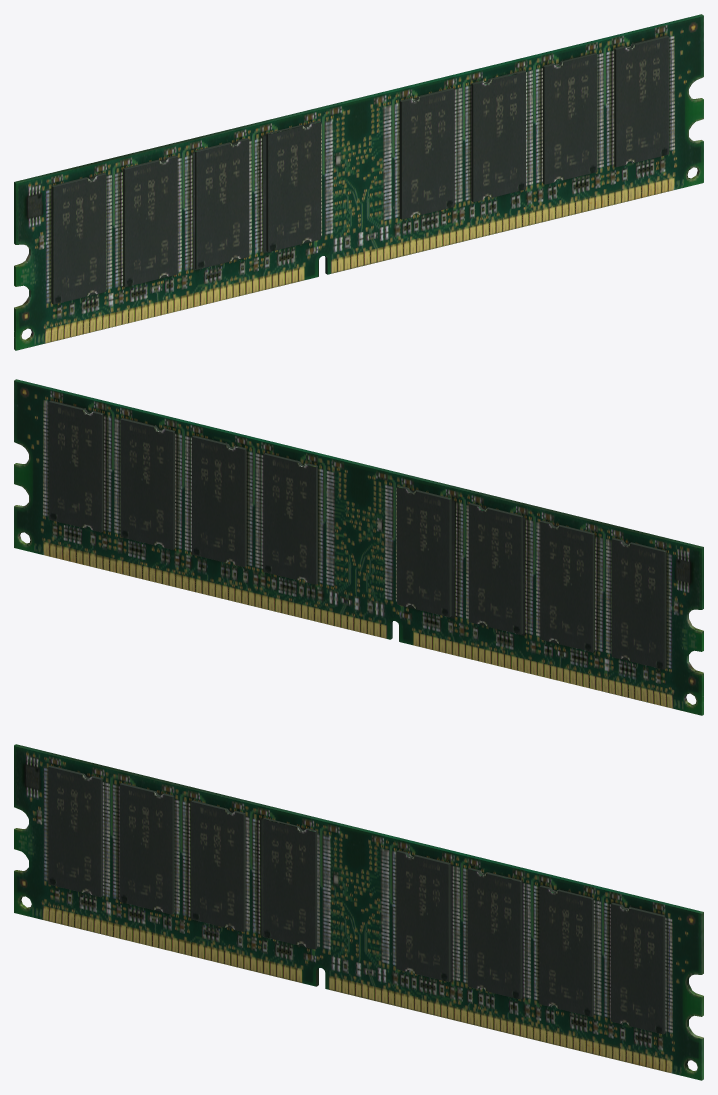
File: PC_RAM.fbx
3 renders of one model, top to bottom at view 1: azimuth 30°, elevation 25°; view 2: azimuth 150°, elevation 25°; view 3: azimuth 330°, elevation 25°, orthographic.
Parts seen in each view (by area): view 1: RAM.005; view 2: RAM.005; view 3: RAM.005.
Part boxes in pixels (x1,y1,x2,y2): RAM.005: (14,14,703,350); RAM.005: (14,379,703,715); RAM.005: (14,744,703,1080).
Bounding box in the file's own units: 970 × 227 × 13.4.
